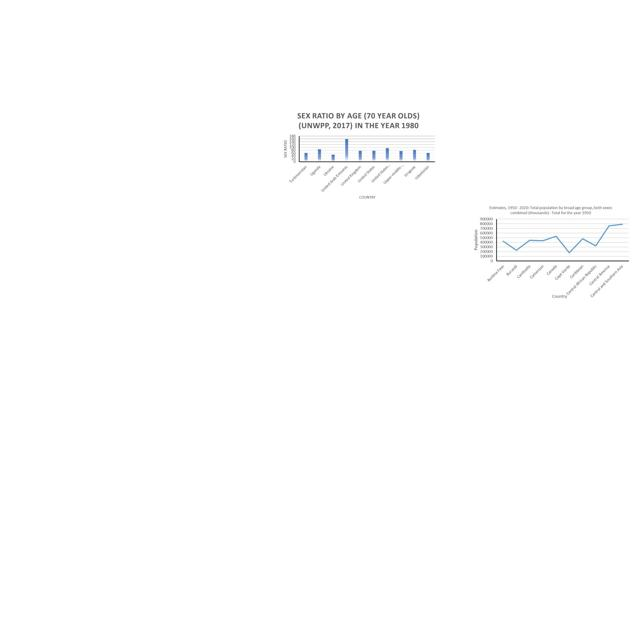Graph: (470, 203, 632, 300), (279, 109, 437, 201)
